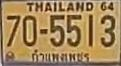0: (22, 14, 36, 46)
1: (87, 14, 92, 46), (88, 14, 92, 46)
3: (100, 14, 114, 46)
5: (49, 14, 64, 46), (66, 14, 81, 46)
7: (6, 14, 20, 46)
KPT: (29, 48, 92, 64)
